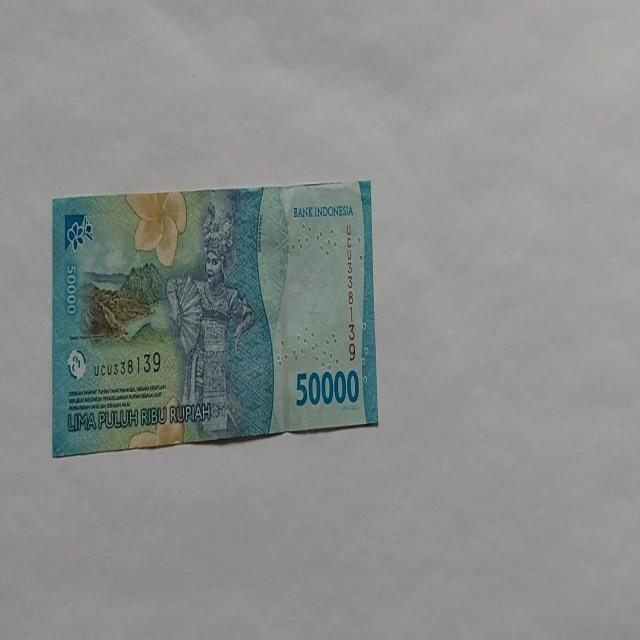lima puluh ribu rupiah: (51, 179, 379, 457)
